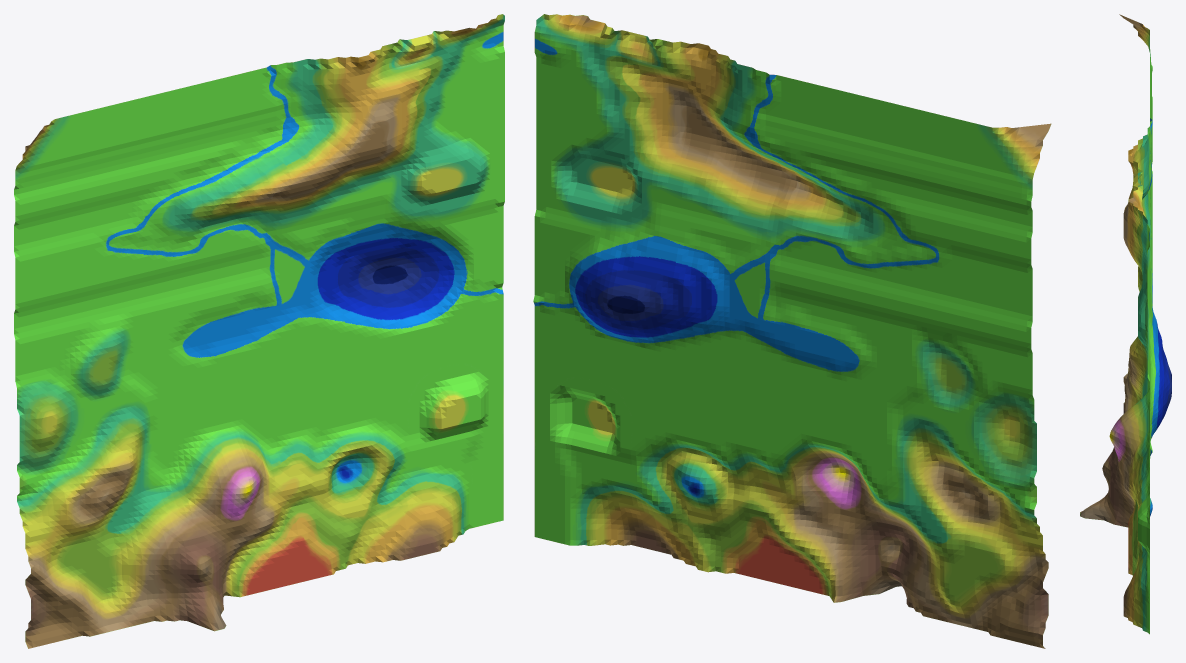
Rendered from perfect_topo.dae.
The picture shows the model from 3 angles, left to right: view 1: azimuth 30°, elevation 25°; view 2: azimuth 150°, elevation 25°; view 3: azimuth 270°, elevation 25°; orthographic projection. The views are drawn at different scales.
Parts seen in each view (by area): view 1: node0; view 2: node0; view 3: node0.
Boxes of the visible parts, left/top/right/bottom form: node0: left=14, top=14, right=504, bottom=648; node0: left=533, top=14, right=1051, bottom=648; node0: left=1080, top=14, right=1171, bottom=634.
Size of the model in its own units: 198 by 198 by 38.
Materials: 1 (1 with a texture image).
